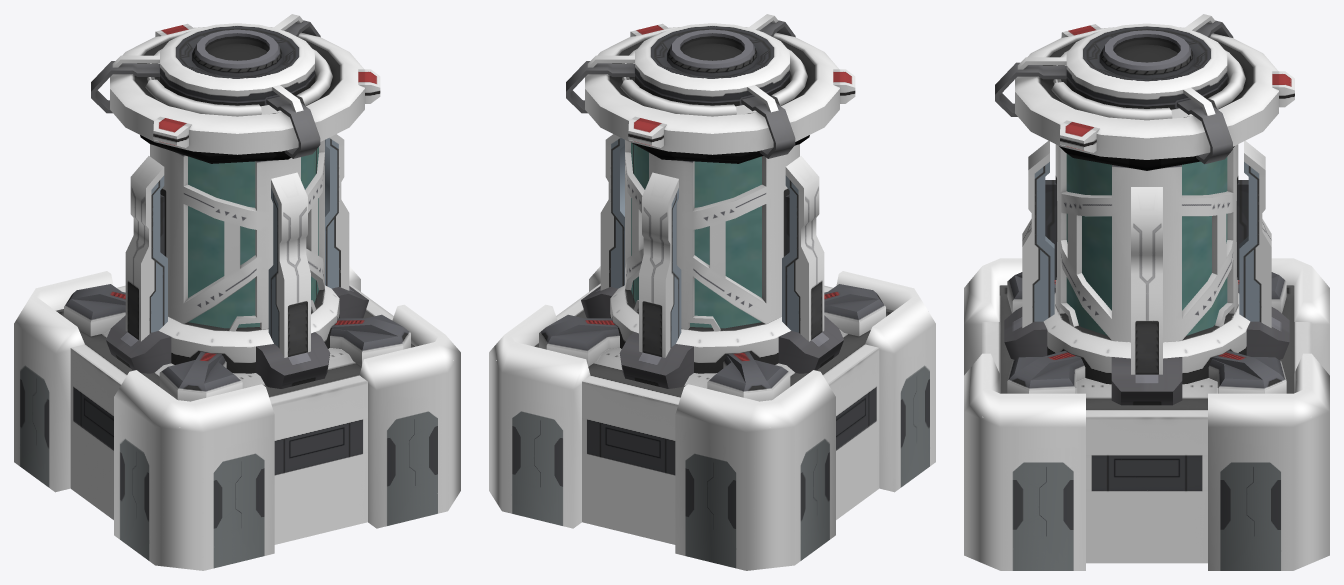
File: smelter-2.glb
The picture shows the model from 3 angles, left to right: view 1: azimuth 30°, elevation 25°; view 2: azimuth 150°, elevation 25°; view 3: azimuth 270°, elevation 25°; orthographic projection. The views are drawn at different scales.
Parts seen in each view (by area): view 1: smelter-2, smelter-2-1-1, smelter-2-1-3, smelter-2-1-2, smelter-glass; view 2: smelter-2, smelter-2-1-2, smelter-2-1-4, smelter-2-1-1, smelter-glass, smelter-2-1-3; view 3: smelter-2, smelter-2-1-3, smelter-2-1-4, smelter-2-1-1, smelter-glass, smelter-2-1-2.
Part boxes in pixels (x1,y1,x2,y2): smelter-2: [21, 14, 453, 544]; smelter-2-1-1: [114, 172, 330, 570]; smelter-2-1-3: [325, 134, 460, 528]; smelter-2-1-2: [14, 156, 171, 492]; smelter-glass: [188, 147, 318, 328]; smelter-2: [496, 14, 928, 544]; smelter-2-1-2: [675, 156, 843, 570]; smelter-2-1-4: [489, 172, 693, 528]; smelter-2-1-1: [836, 271, 935, 492]; smelter-glass: [631, 143, 761, 328]; smelter-2-1-3: [581, 134, 624, 318]; smelter-2: [982, 14, 1311, 563]; smelter-2-1-3: [964, 187, 1182, 570]; smelter-2-1-4: [1208, 140, 1329, 570]; smelter-2-1-1: [964, 140, 1056, 375]; smelter-glass: [1066, 153, 1227, 335]; smelter-2-1-2: [1271, 258, 1329, 375].
Size of the model in its own units: 3 by 4.03 by 3.
Materials: 7 (7 with a texture image).
